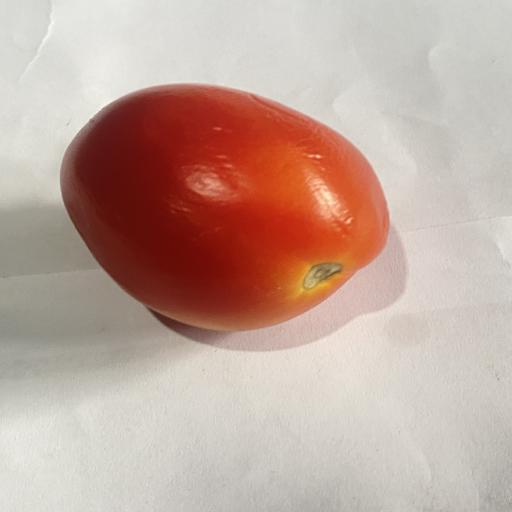spoiled: (60, 84, 389, 330)
